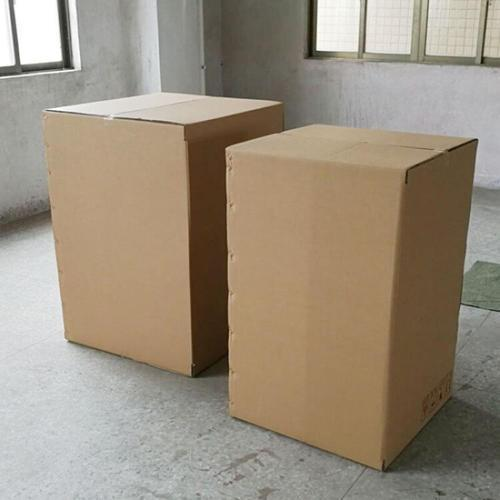cardboard: (226, 125, 476, 468), (43, 93, 282, 374)
